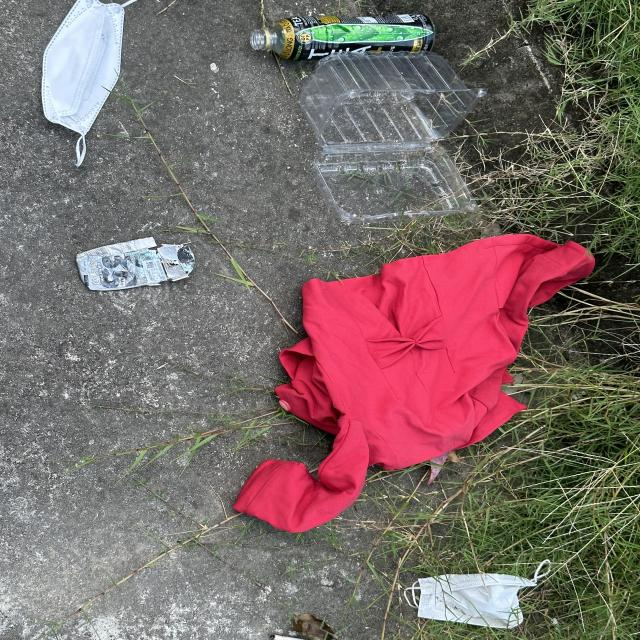bottle: (241, 15, 434, 60)
clothes: (230, 234, 595, 534)
mask: (41, 0, 134, 167), (404, 559, 554, 628)
plastic holder: (301, 52, 486, 220)
